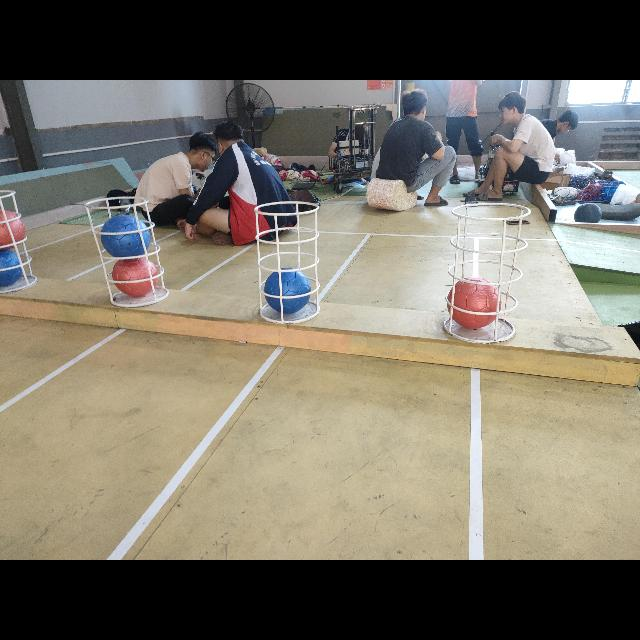B: (100, 214, 150, 260), (266, 267, 310, 313), (0, 248, 22, 288)
R: (448, 277, 502, 329), (112, 258, 158, 296), (1, 207, 26, 251)
